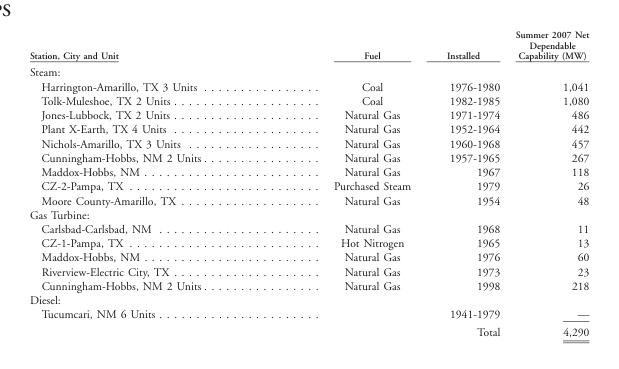table: (28, 28, 588, 338)
table column: (28, 28, 269, 338), (269, 28, 428, 338), (507, 28, 588, 338), (428, 28, 507, 338)
table column header: (28, 28, 588, 62)
table projected row header: (28, 62, 588, 79), (28, 207, 588, 221), (28, 292, 588, 306)
table row: (28, 28, 588, 62), (28, 62, 588, 79), (28, 306, 588, 322), (28, 322, 588, 338), (28, 121, 588, 136), (28, 178, 588, 193), (28, 249, 588, 264), (28, 79, 588, 93), (28, 93, 588, 107), (28, 107, 588, 121), (28, 136, 588, 150), (28, 150, 588, 164), (28, 164, 588, 178), (28, 193, 588, 207), (28, 207, 588, 221), (28, 221, 588, 235), (28, 235, 588, 249), (28, 264, 588, 278), (28, 278, 588, 292), (28, 292, 588, 306)
table spanning cell: (28, 306, 269, 338)
